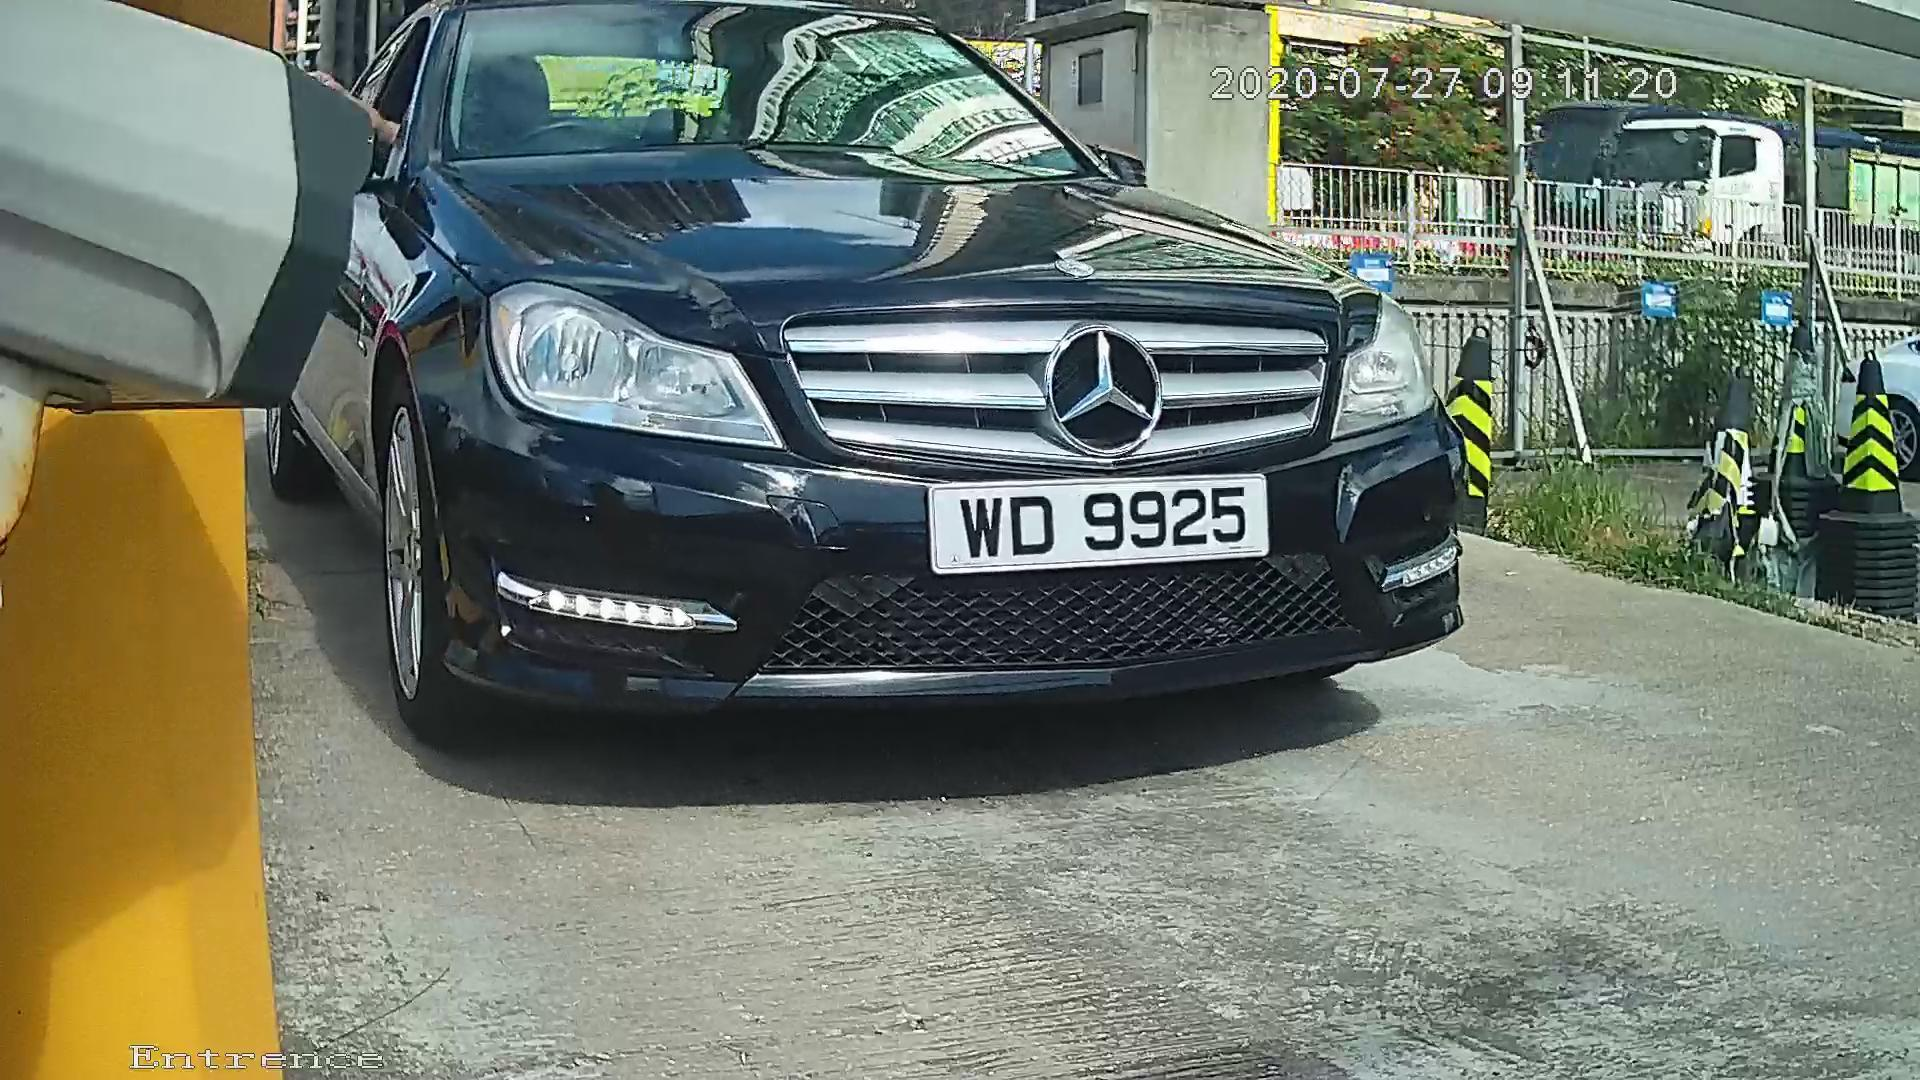License Plate: (918, 454, 1295, 579)
